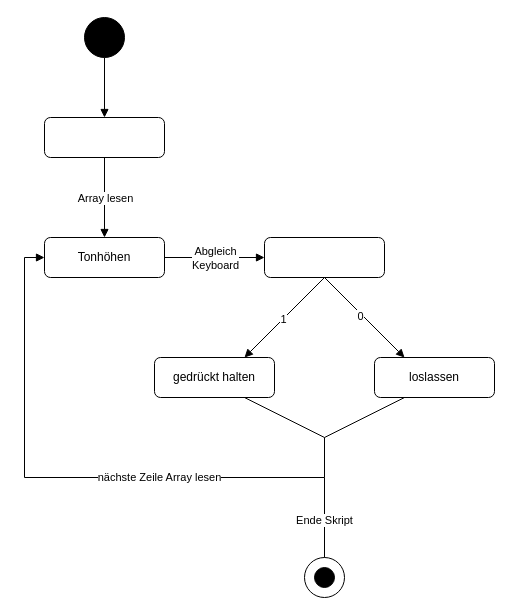
Image size: 512x615. Some labels were removed from this diagram. The shapes that lost their labels are listed below. From the top down, each one's centre as x and y in pixels, then its label:
[104,137]: Abspielen
[324,257]: gedrückte Tasten
